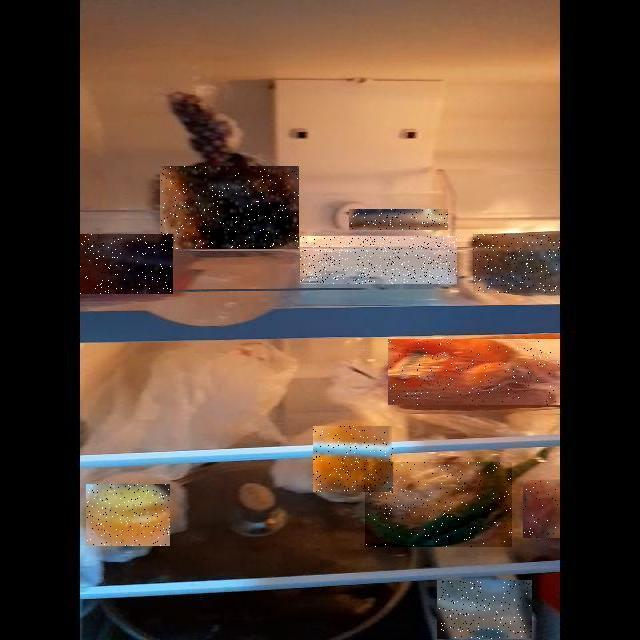Bread: (160, 166, 299, 249)
Butter: (473, 234, 560, 293)
Carrot: (388, 339, 560, 405)
Cheese: (300, 236, 457, 284)
Chillies: (365, 462, 512, 547)
Lemon: (314, 426, 394, 492), (87, 484, 171, 546)
Milk: (437, 580, 532, 639)
Sausages: (80, 234, 173, 294)
Tomato Paste: (523, 480, 560, 538)
Yoghurt: (349, 209, 448, 230)
